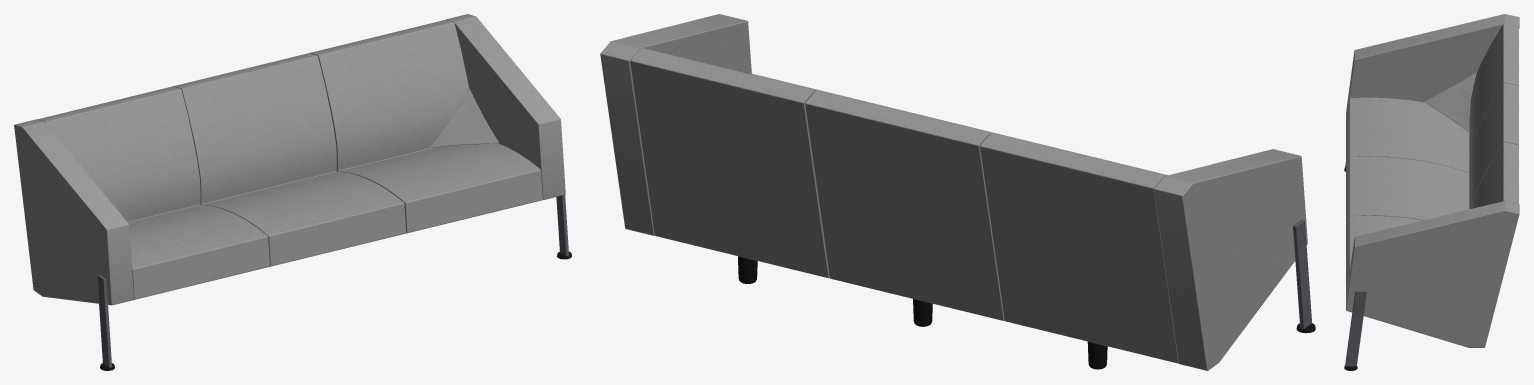
File: sofa_blue.obj
The picture shows the model from 3 angles, left to right: view 1: azimuth 30°, elevation 25°; view 2: azimuth 150°, elevation 25°; view 3: azimuth 270°, elevation 25°; orthographic projection. The views are drawn at different scales.
Parts seen in each view (by area): view 1: decision_couchD; view 2: decision_couchD; view 3: decision_couchD.
Boxes of the visible parts, bbox=[...] form: decision_couchD: bbox=[14, 14, 571, 370]; decision_couchD: bbox=[600, 14, 1315, 370]; decision_couchD: bbox=[1344, 14, 1519, 370].
Size of what is drawn, in the model's own units: 0.9098 by 0.3273 by 0.3309.
5 materials, 3 textured.
